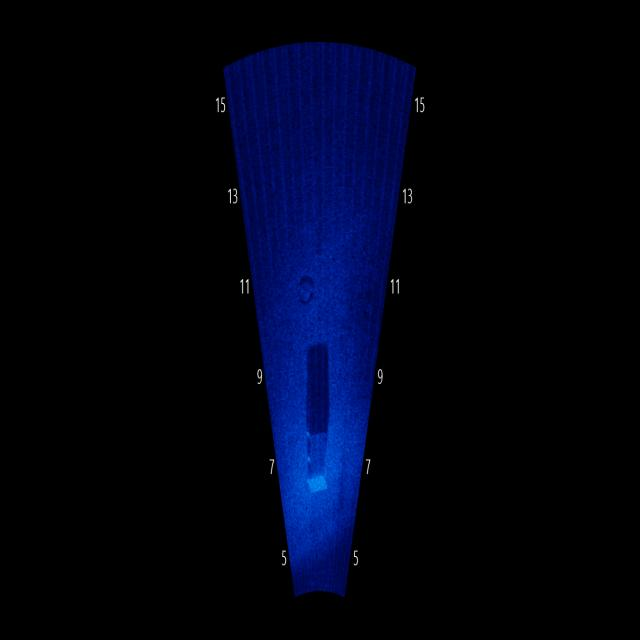square: (302, 420, 335, 508)
